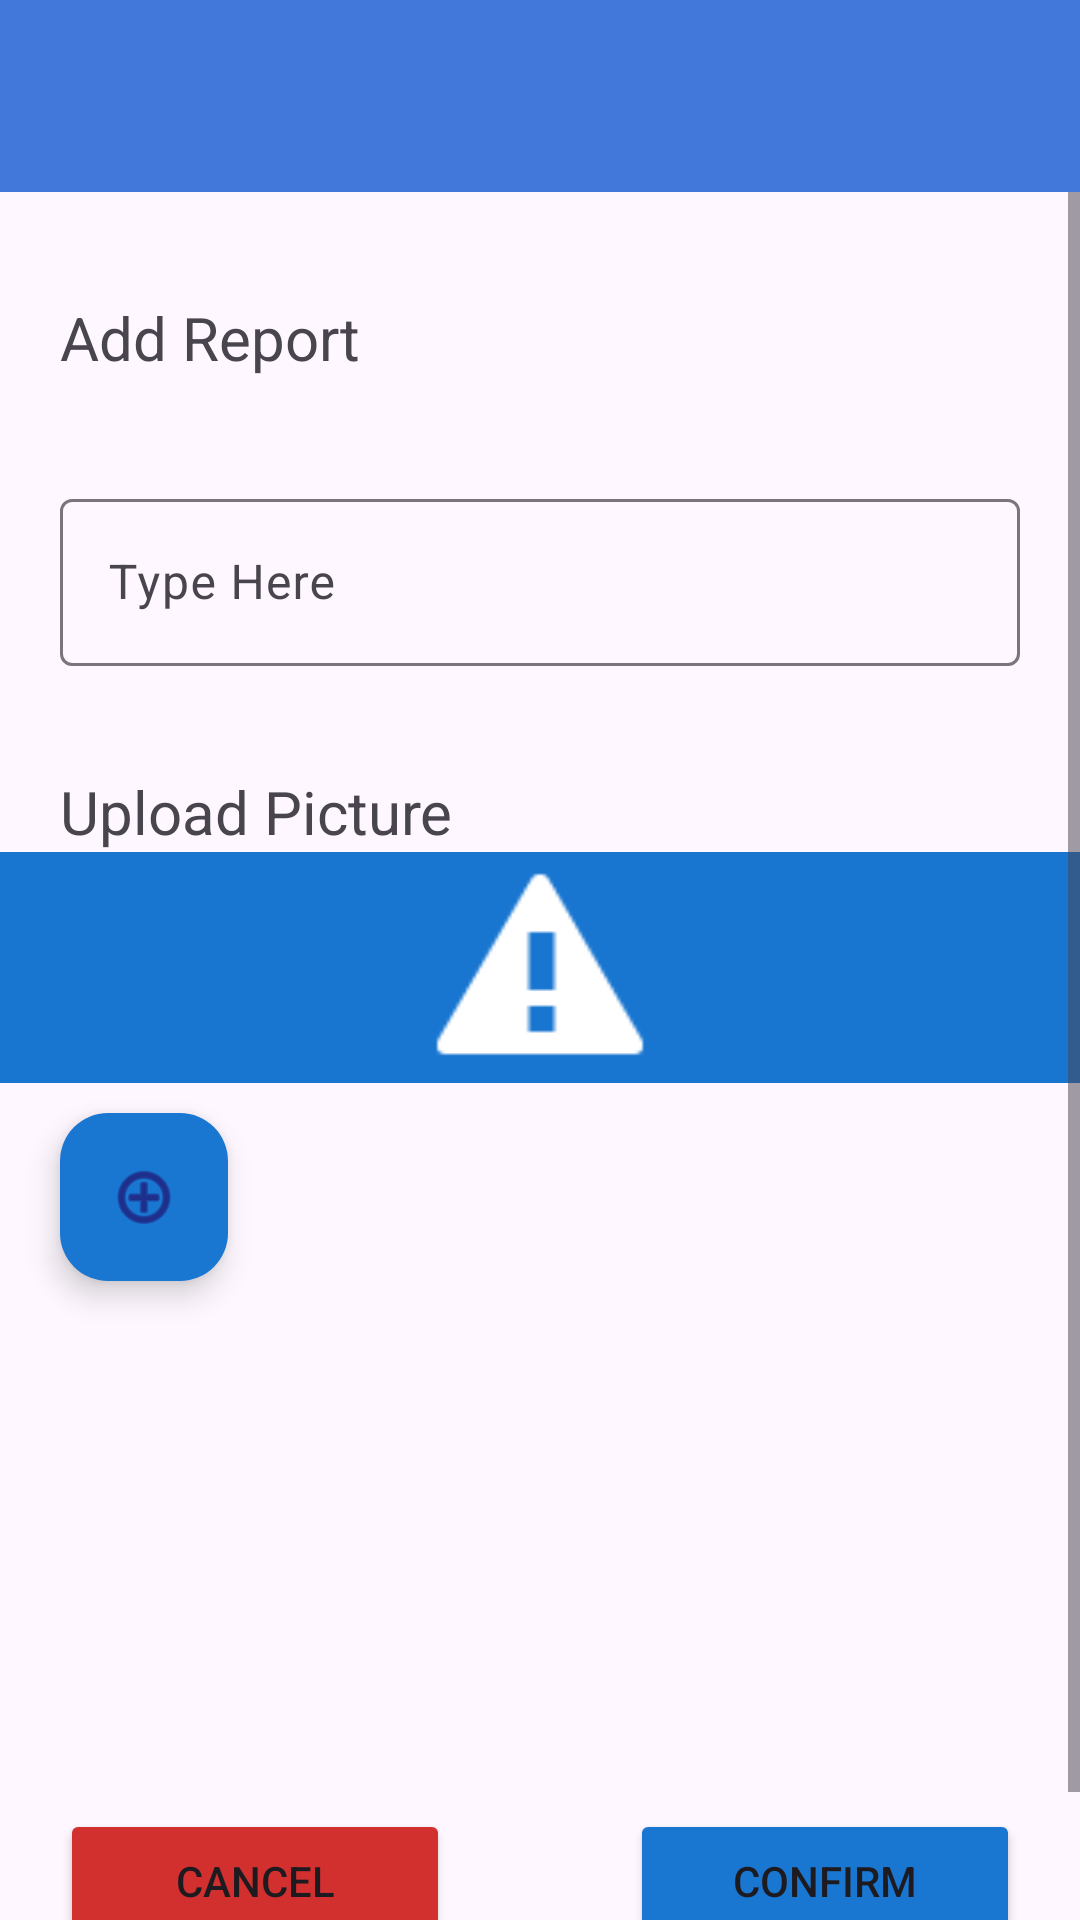

Icon click points for this 1080×1920 phone screenshot, format (x=x, y=y):
add: (x=144, y=1197)
